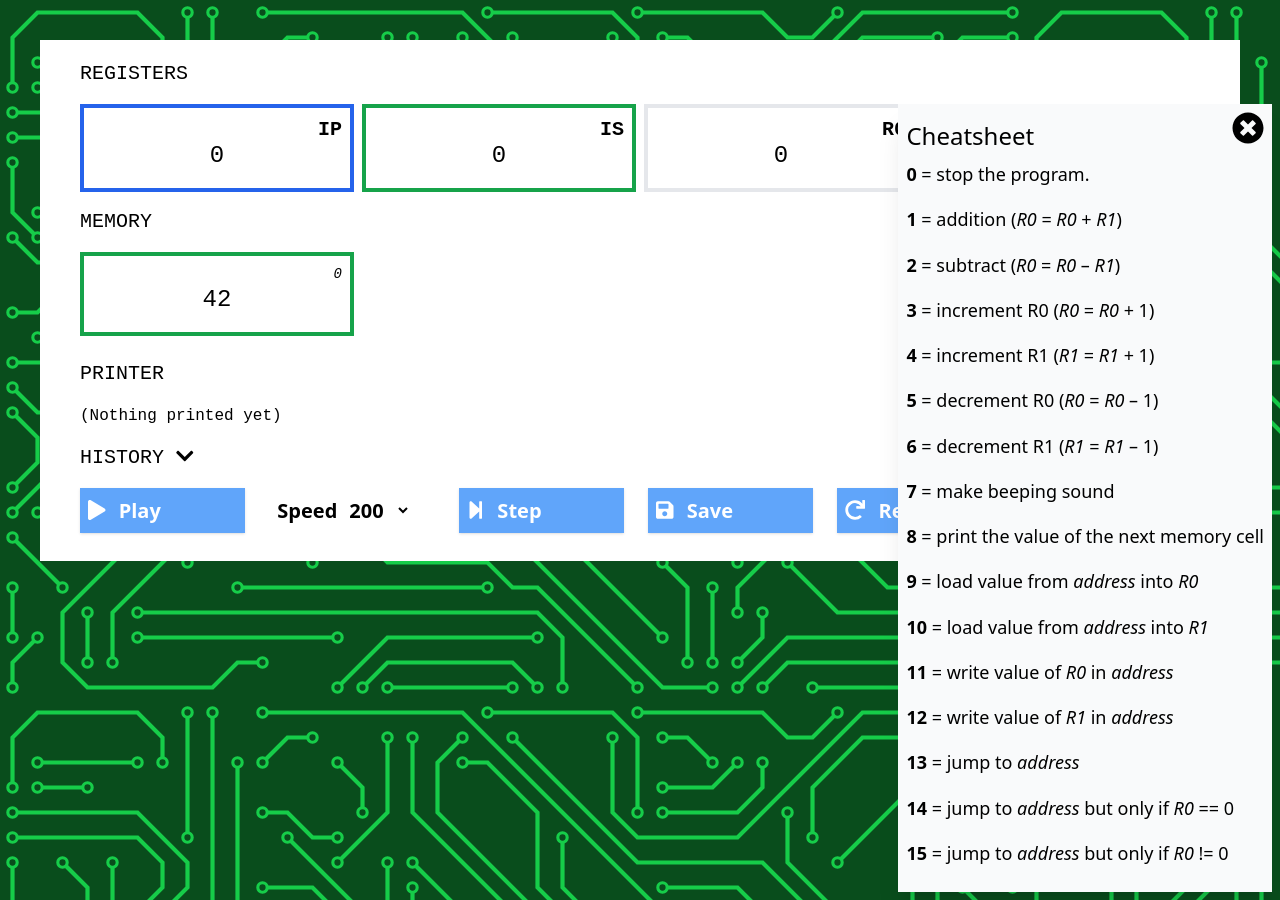
FantasyCpu component › should when an error occurs display the error message
The image size is (1280, 900).
read the faulty instruction.
Click the button "Step" at (541,510), box x1=459 y1=488 x2=624 y2=533
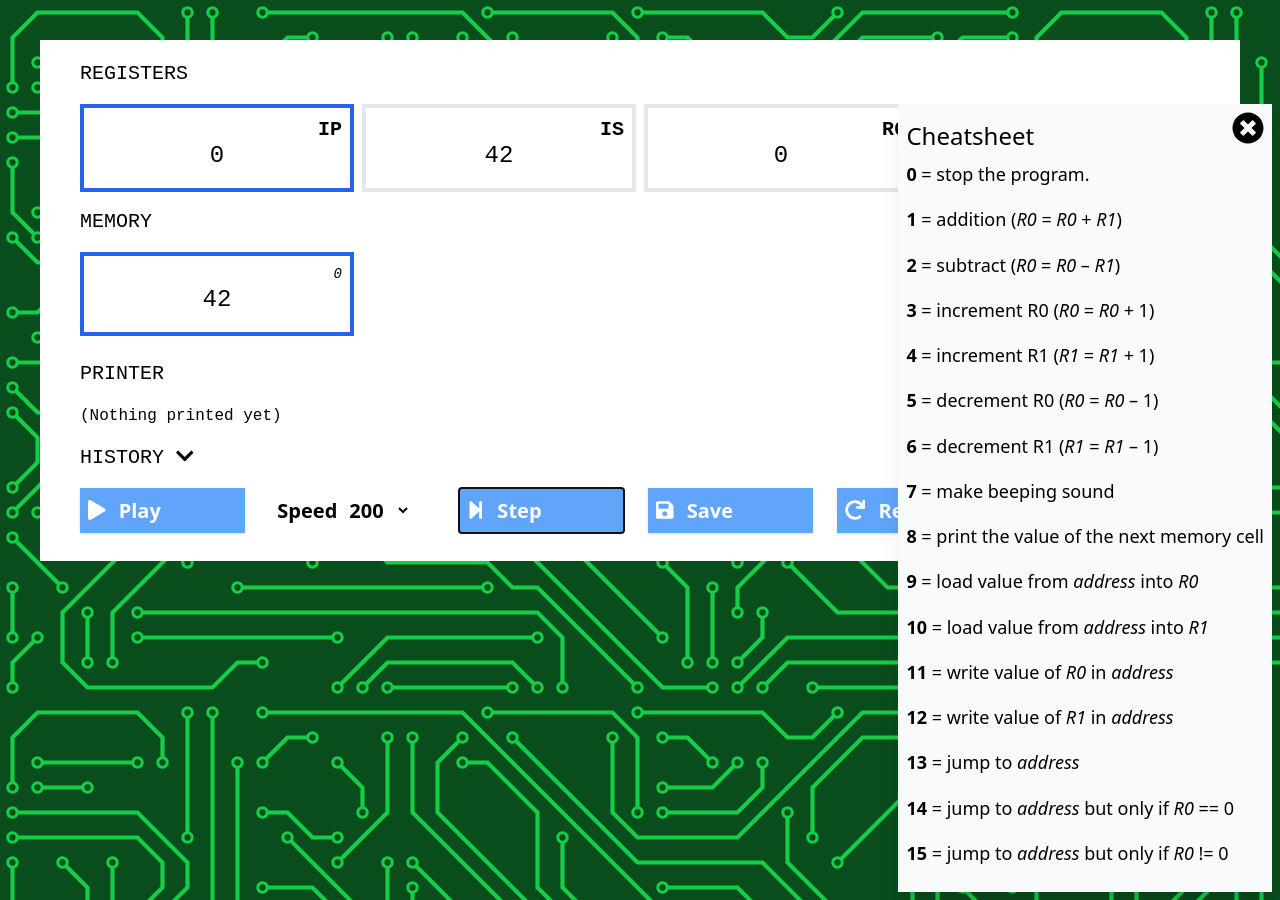
Expected: the text "Program crashed executing unknown instruction!" is not shown
execute the faulty instruction.
Click the button "Step" at (541,510), box x1=459 y1=488 x2=624 y2=533
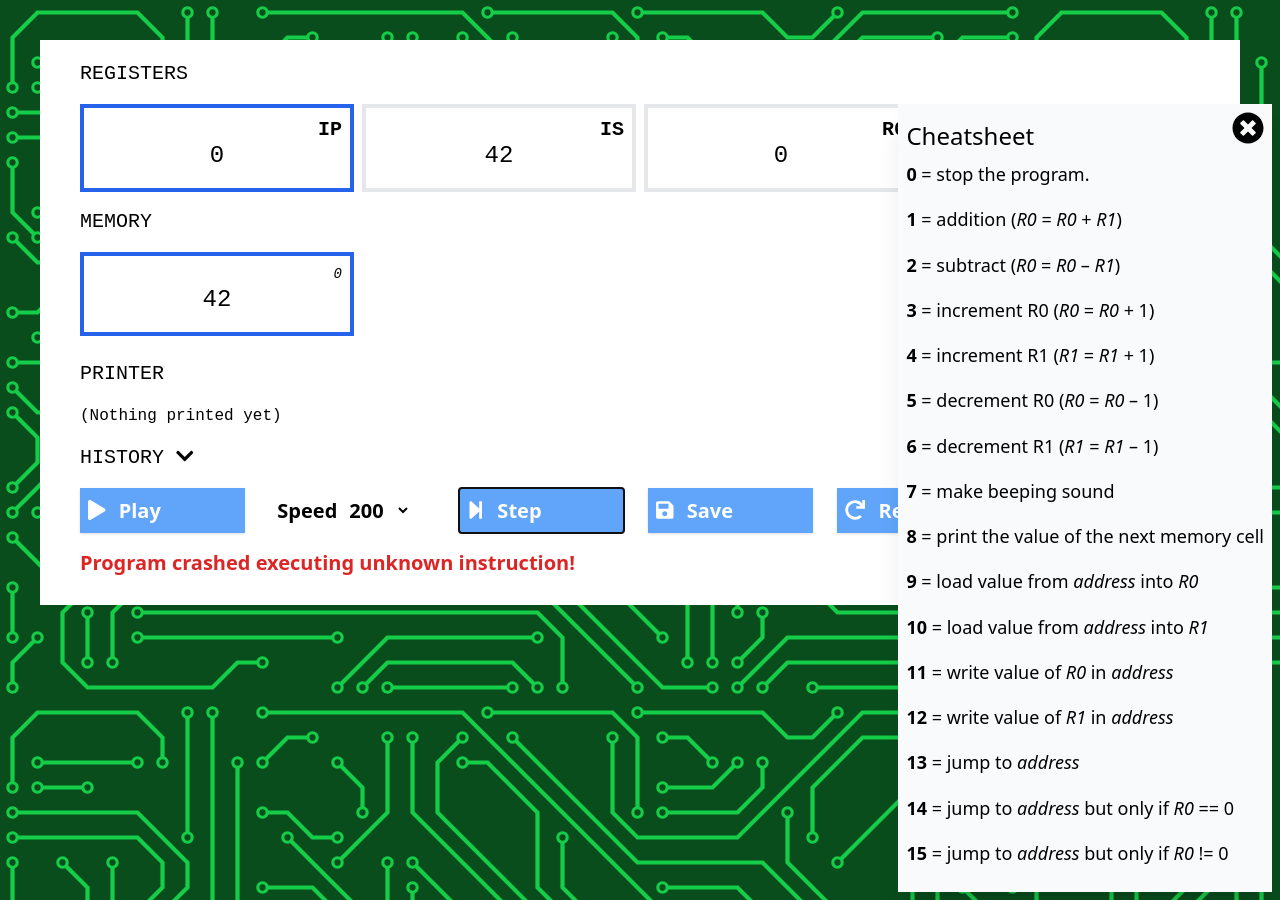
Expected: the text "Program crashed executing unknown instruction!" is shown, x1=80 y1=549 x2=575 y2=576
